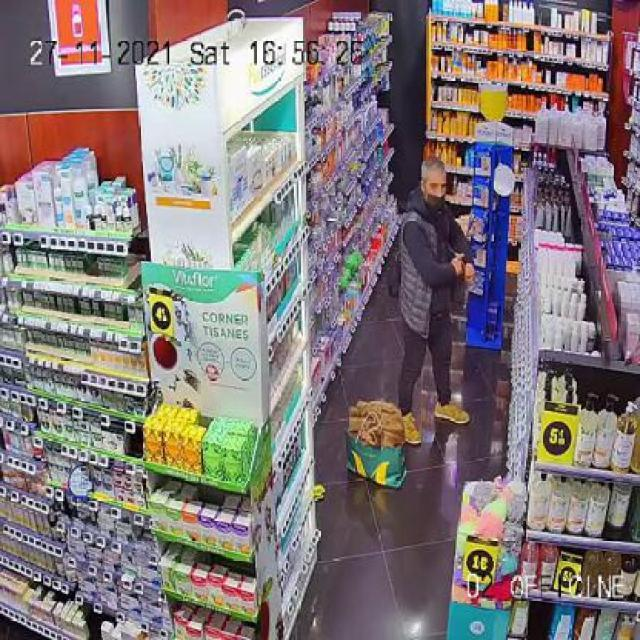Shoplifting: (385, 138, 487, 465)
